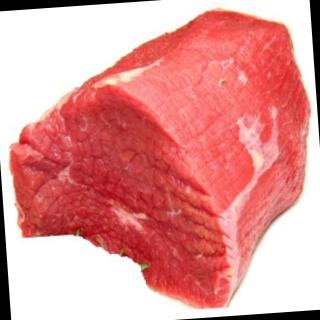Daging Sapi: (1, 3, 320, 320)
